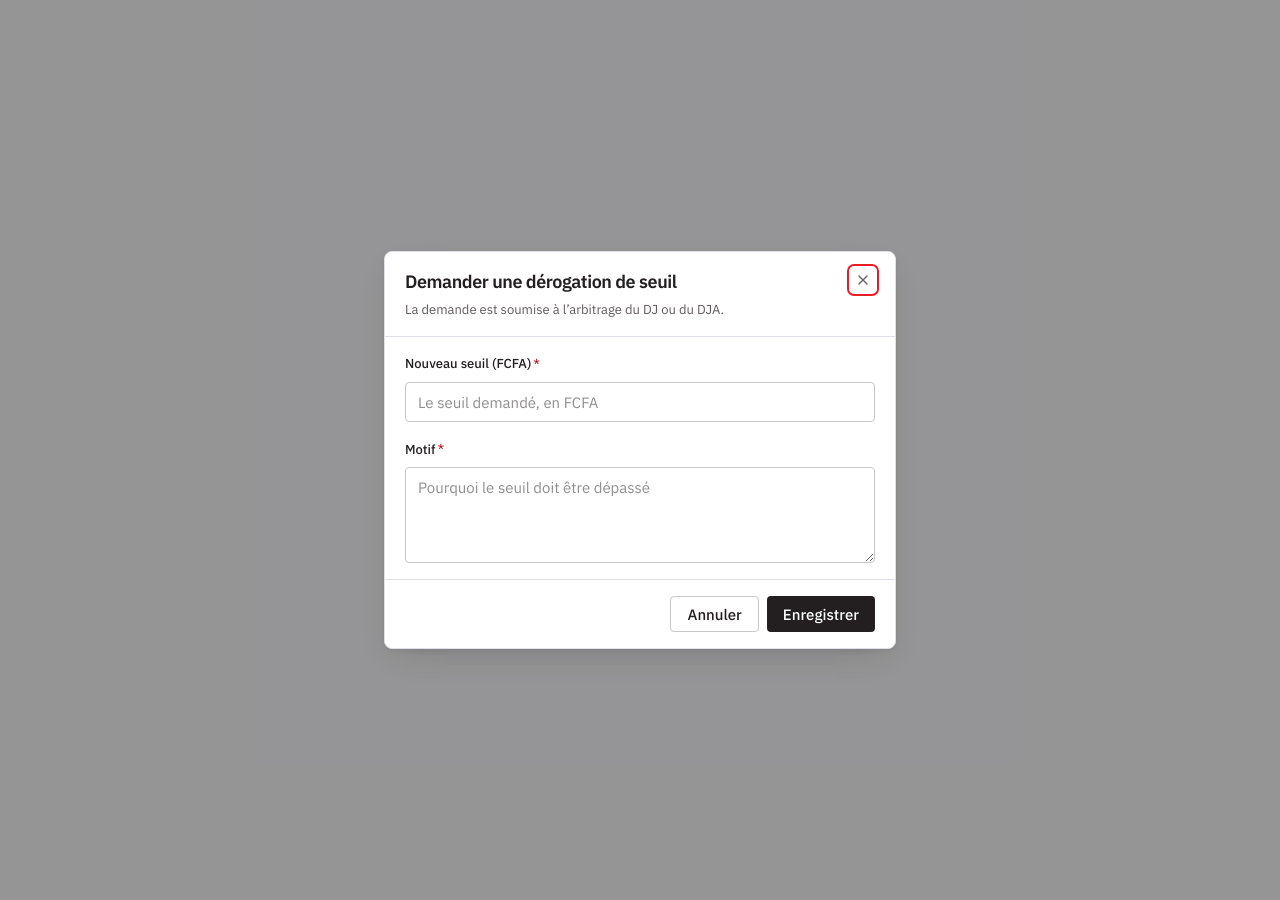
Scenario: ModaleDerogation › affiche le refus du serveur
Type "1" into the number field labelled "Nouveau seuil (FCFA)" at (640, 402), box [405,382,875,422]
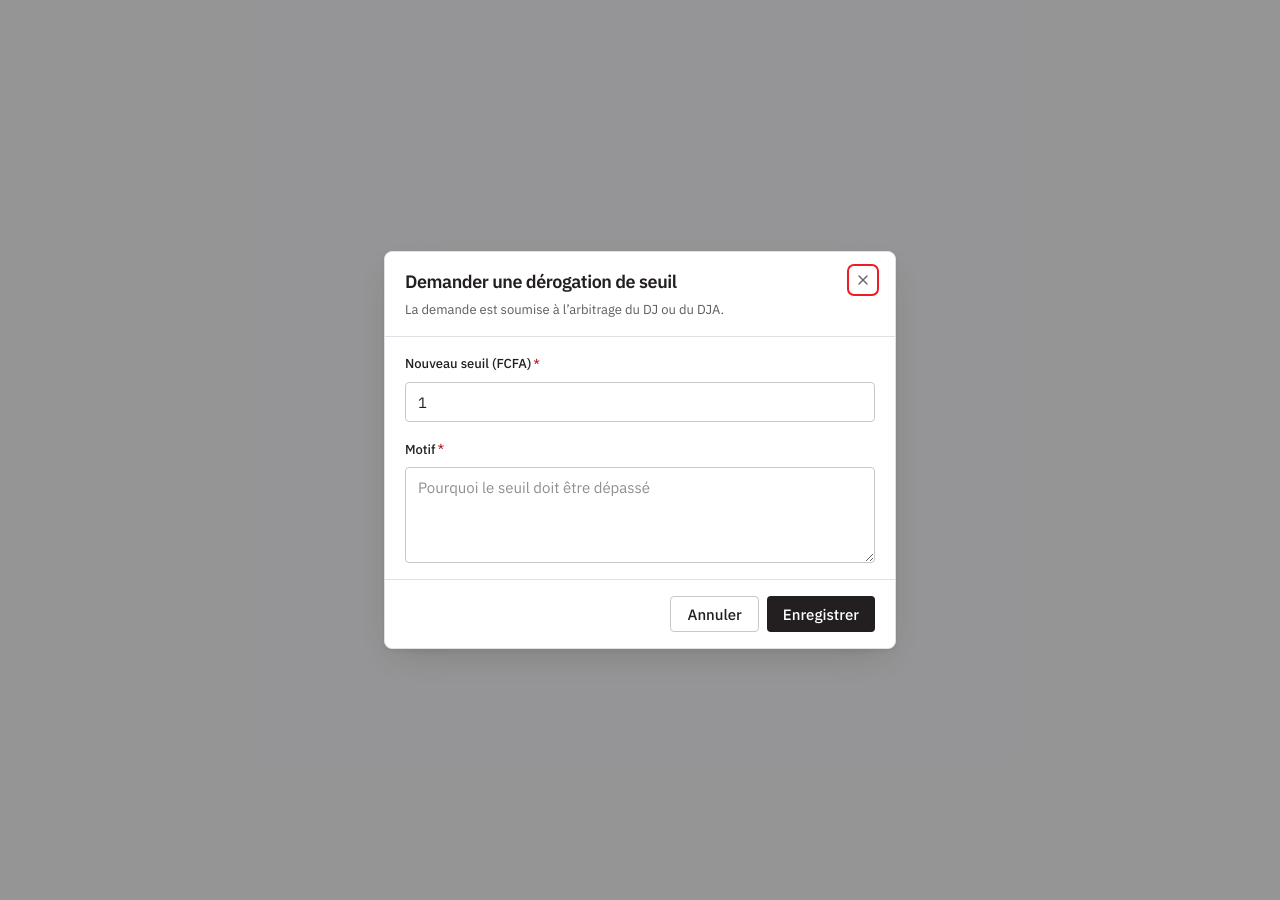
Type "Motif" into the text box labelled "Motif" at (640, 515), box [405,467,875,563]
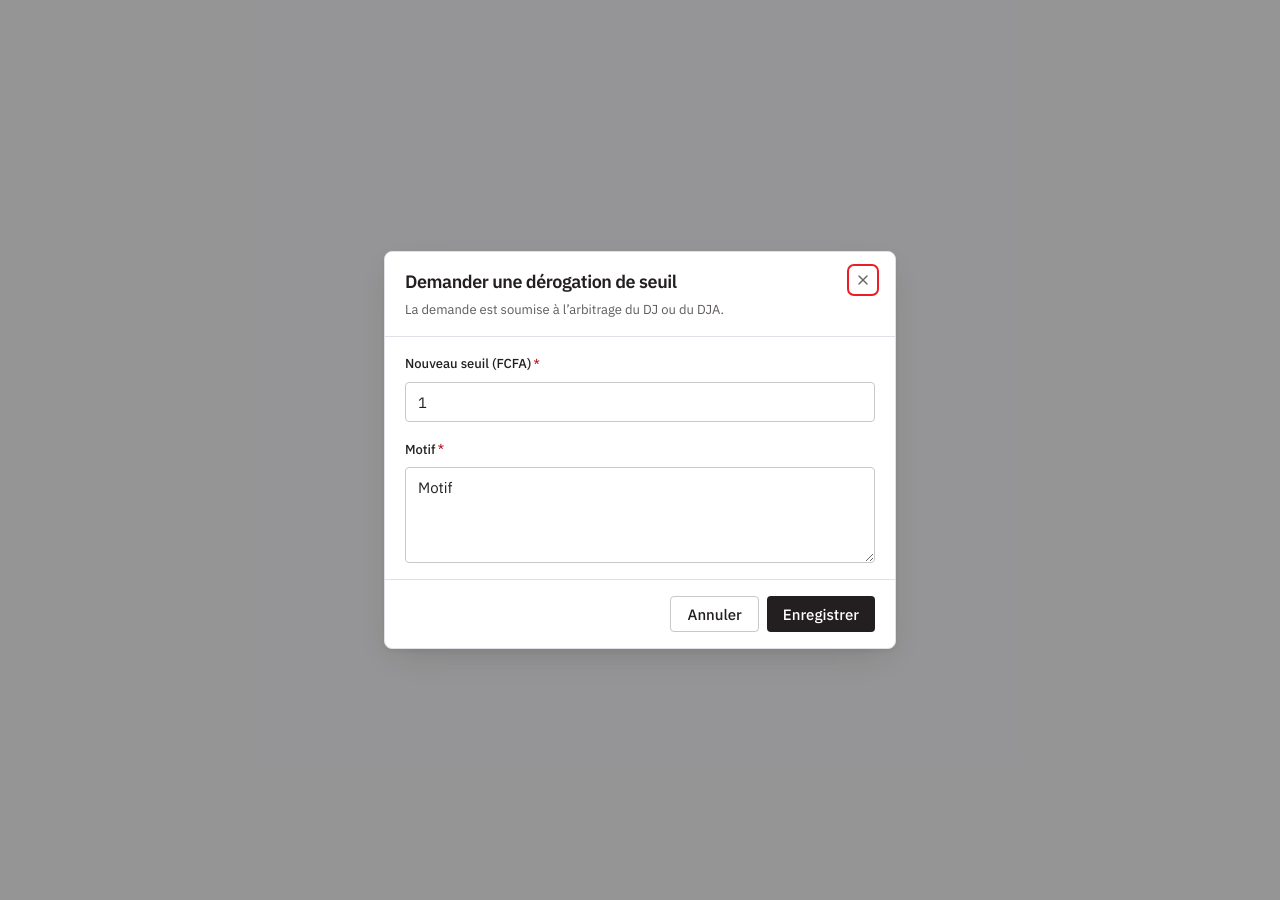
Click the button "Enregistrer" at (821, 614), box [767,596,875,632]
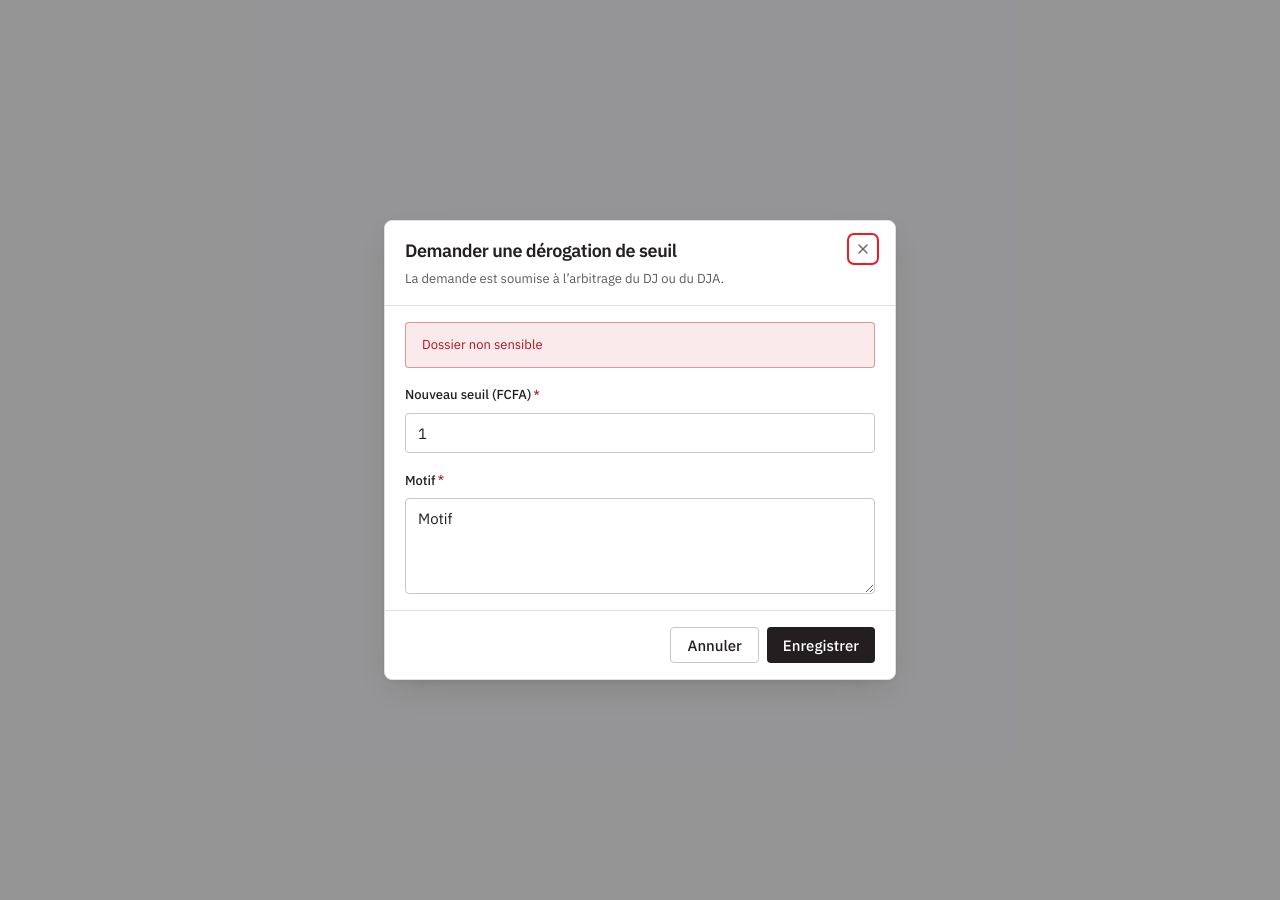
Check: the text "Dossier non sensible" is shown, box [405,322,875,368]
